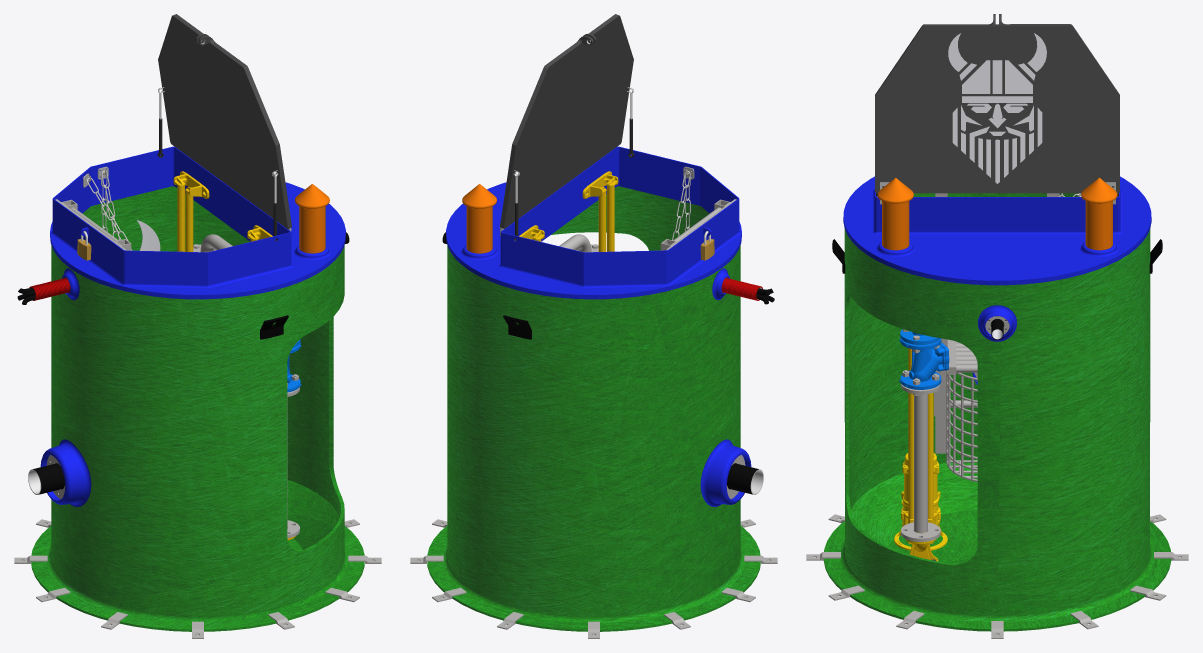
The model's file is KHC_expo_ONIS15.glb.
3 views of the same model, side by side, from view 1: azimuth 30°, elevation 25°; view 2: azimuth 150°, elevation 25°; view 3: azimuth 270°, elevation 25° (orthographic). The views are drawn at different scales.
Parts seen in each view (by area): view 1: Твердое тело1 (×9), Solid1 (×2); view 2: Твердое тело1 (×9), Solid1 (×2); view 3: Твердое тело1 (×11), Solid1 (×4).
Part boxes in pixels (<box>): Твердое тело1 (×9): <box>17,14,364,631</box>; Solid1 (×2): <box>28,206,325,494</box>; Твердое тело1 (×9): <box>427,14,774,631</box>; Solid1 (×2): <box>466,206,763,494</box>; Твердое тело1 (×11): <box>823,14,1171,631</box>; Solid1 (×4): <box>882,201,1112,541</box>.
Bounding box in the file's own units: 1.63 × 2.43 × 1.54.
42 materials, 3 textured.
